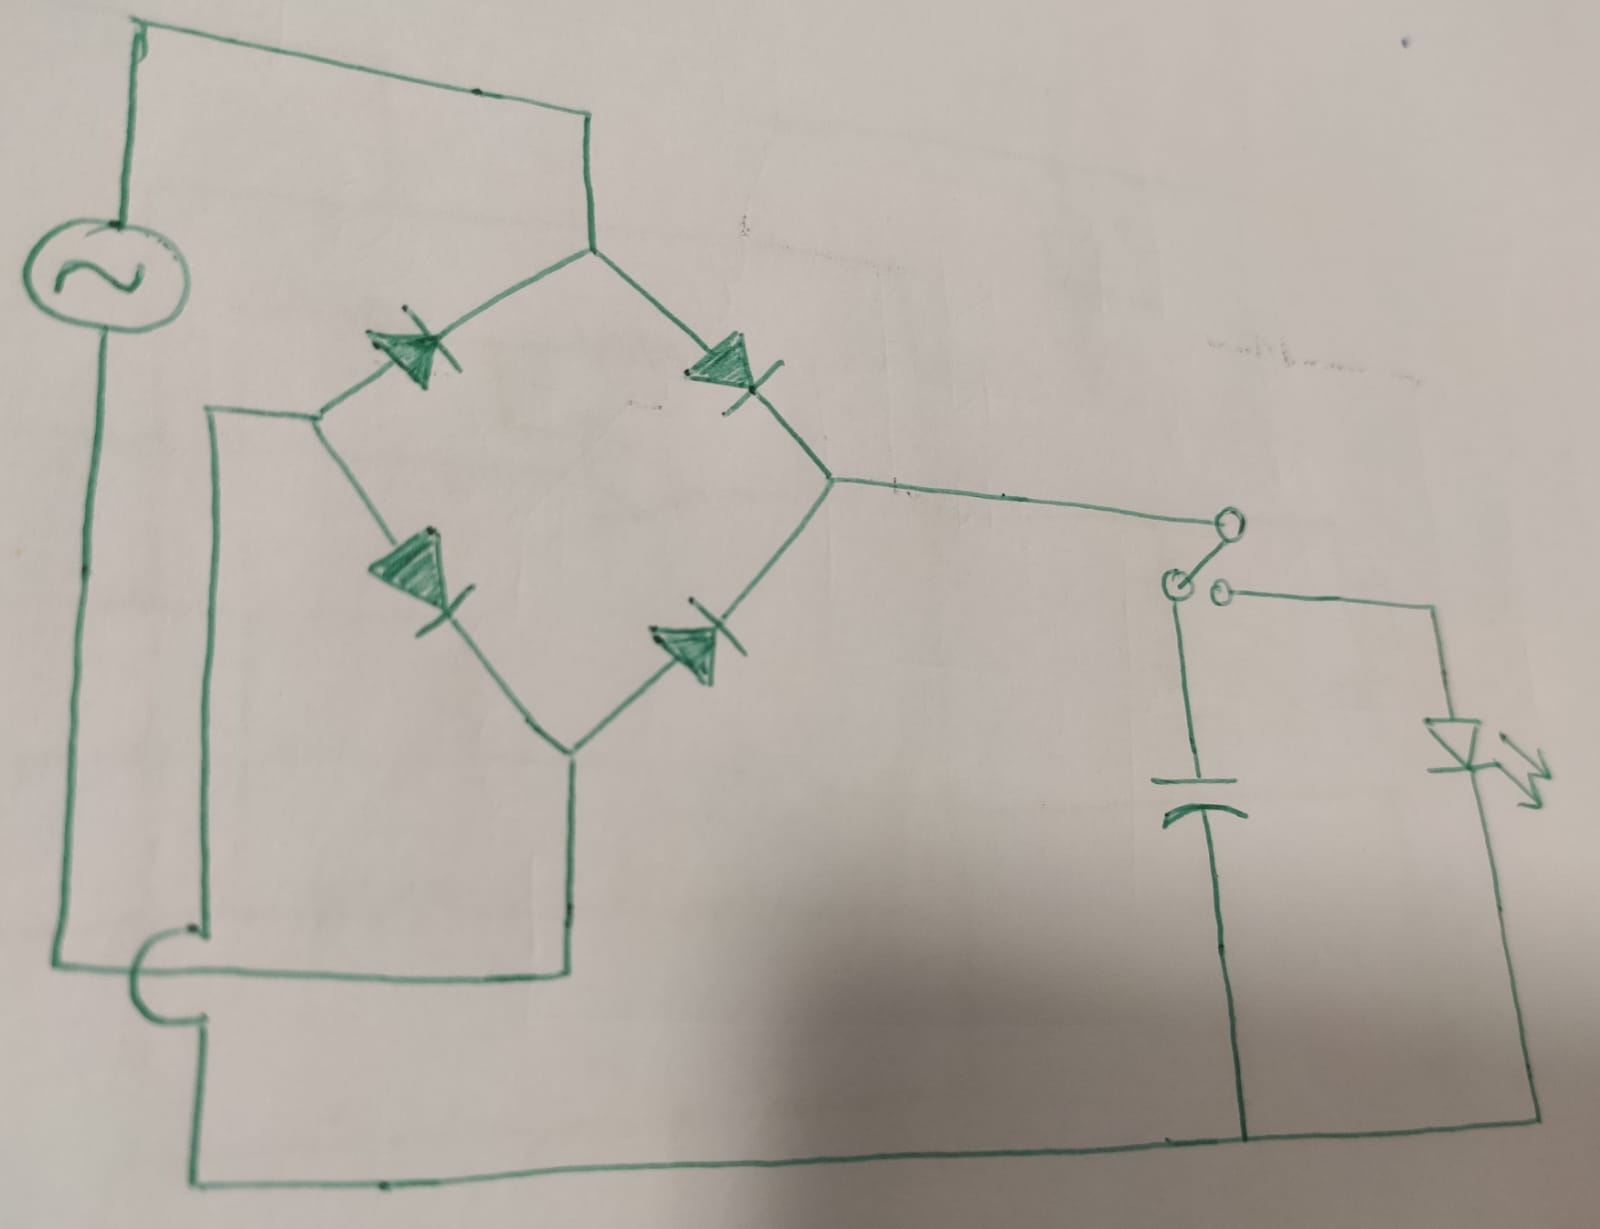capacitor.unpolarized: (1145, 769, 1250, 831)
crossover: (124, 919, 215, 1029)
diode: (366, 524, 477, 638), (646, 594, 750, 689), (681, 328, 785, 416), (363, 303, 465, 389)
diode.light_emitting: (1419, 711, 1554, 808)
junction: (170, 1158, 228, 1208), (111, 3, 163, 57), (27, 941, 83, 991), (563, 89, 610, 146), (301, 405, 335, 443), (1413, 593, 1450, 627), (1226, 1122, 1263, 1155), (194, 395, 230, 429), (555, 738, 588, 773), (1519, 1102, 1554, 1133), (818, 465, 846, 500), (551, 959, 583, 988), (578, 238, 609, 266)
switch: (1157, 503, 1250, 608)
voltage.dc_ac: (21, 210, 194, 334)
